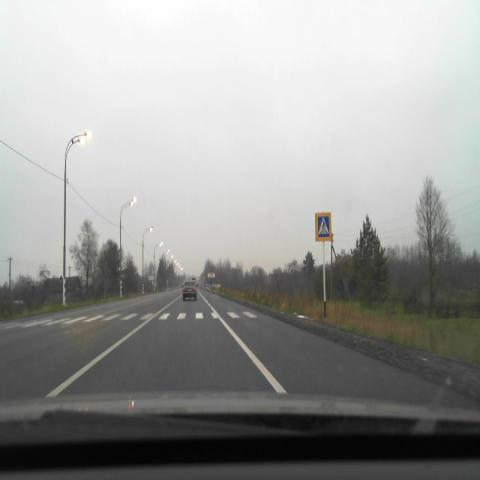5_19_1: (315, 212, 332, 241)
